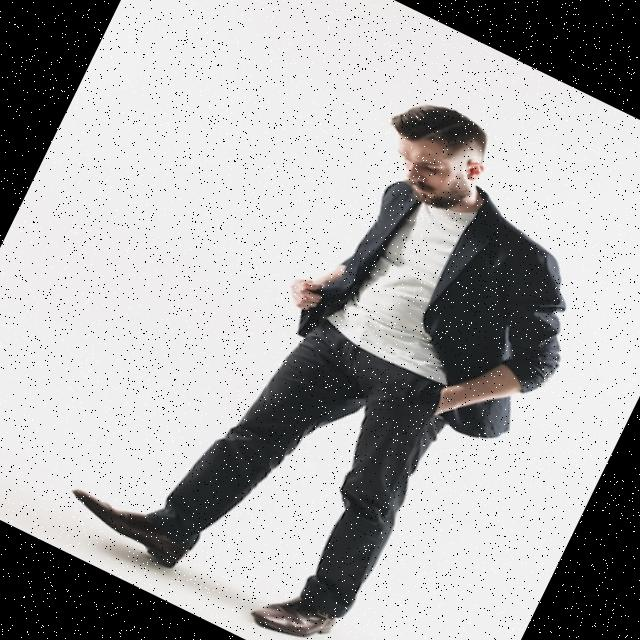Person: (56, 31, 639, 640)
